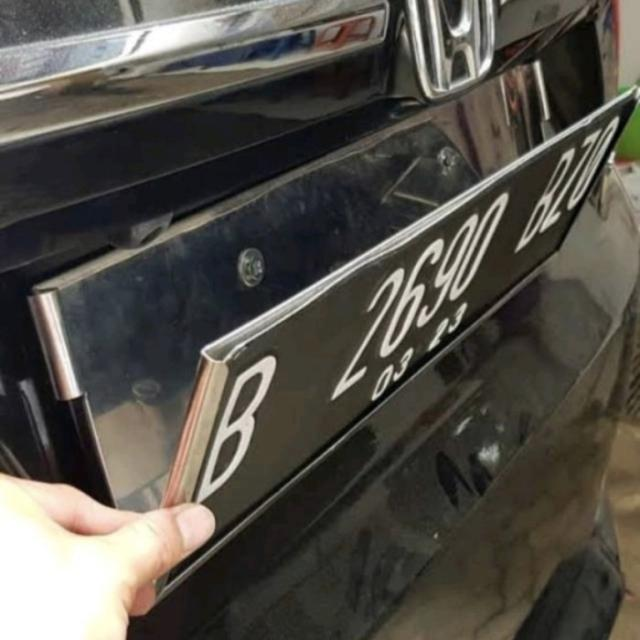lisence-plate: (129, 91, 640, 556)
